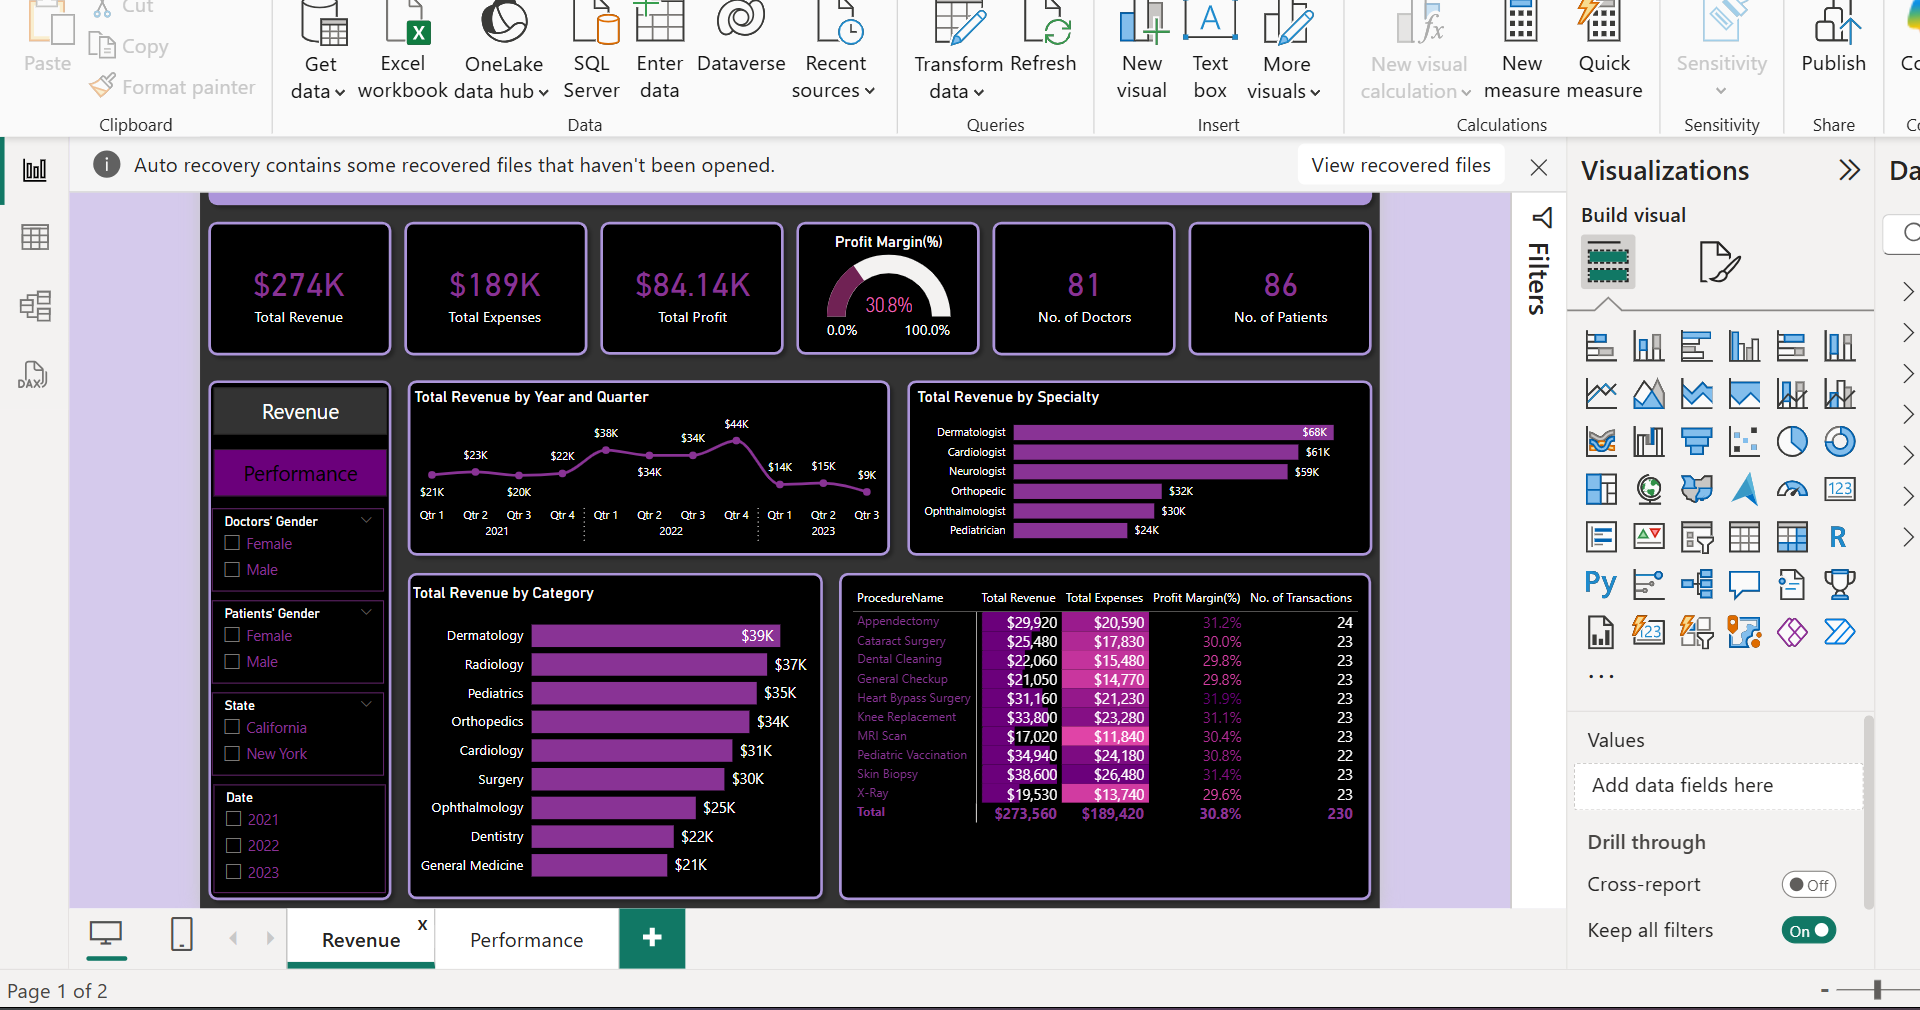

What the dashboard file says about the page in this screenshot:
{"tool":"powerbi","page":{"name":"Revenue","canvas":[1300,850],"ordinal":0},"visuals":[{"type":"shape","box":[0,12.6,1300.1,71.2],"z":0},{"type":"shape","box":[0,84.3,219.8,165.4],"z":1000},{"type":"shape","box":[432.1,84.8,219.8,164.3],"z":2000},{"type":"shape","box":[216.1,84.3,219.8,165.4],"z":3000},{"type":"shape","box":[648.2,84.8,219.8,164.3],"z":4000},{"type":"shape","box":[864.2,84.3,219.8,165.4],"z":5000},{"type":"shape","box":[0,259.6,219.8,590.4],"z":6000},{"type":"shape","box":[219.8,259.6,549.6,211.5],"z":7000},{"type":"shape","box":[220,471.1,475.6,377.8],"z":8000},{"type":"shape","box":[769.4,259.6,530.7,211.5],"z":9000},{"type":"shape","box":[695.6,471.1,604.4,378.9],"z":10000},{"type":"shape","box":[1080.2,84.3,219.8,165.4],"z":11000},{"type":"card","fields":{"Values":["Calculated Measure.Total Revenue"]},"box":[13.3,104.4,191.1,128.9],"z":12000},{"type":"card","fields":{"Values":["Calculated Measure.Total Expenses"]},"box":[230,104.4,191.1,128.9],"z":13000},{"type":"card","fields":{"Values":["Calculated Measure.Total Profit"]},"box":[446.7,104.4,191.1,128.9],"z":14000},{"type":"gauge","fields":{"Y":["Calculated Measure.Profit Margin(%)"]},"box":[662.2,104.4,191.1,128.9],"z":15000},{"type":"card","fields":{"Values":["CountNonNull(Doctors' Dim.DoctorID)"]},"box":[878.9,104.4,191.1,128.9],"z":16000},{"type":"card","fields":{"Values":["CountNonNull(Patients' Dim.PatientID)"]},"box":[1094.4,104.4,191.1,128.9],"z":17000},{"type":"lineChart","fields":{"Y":["Calculated Measure.Total Revenue"],"Category":["Calendar Dim.Date.Variation.Date Hierarchy.Year","Calendar Dim.Date.Variation.Date Hierarchy.Quarter","Calendar Dim.Date.Variation.Date Hierarchy.Month"]},"box":[230.3,275.3,527.6,180],"z":18000},{"type":"clusteredBarChart","fields":{"Y":["Calculated Measure.Total Revenue"],"Category":["Doctors' Dim.Specialty"]},"box":[784.5,275.5,500.9,180],"z":19000},{"type":"clusteredBarChart","fields":{"Y":["Calculated Measure.Total Revenue"],"Category":["Procedure Dim.Category"]},"box":[230,491.1,454.4,341.1],"z":20000},{"type":"pivotTable","fields":{"Rows":["Procedure Dim.ProcedureName"],"Values":["Calculated Measure.Total Revenue","Calculated Measure.Total Expenses","Calculated Measure.Profit Margin(%)","CountNonNull(Hospital Transactions (Fact Table).TransactionID)"]},"box":[714.4,491.1,570,341.1],"z":21000},{"type":"slicer","fields":{"Values":["Doctors' Dim.Doctor_Gender"]},"box":[13.6,409.3,189.5,91.1],"z":22000},{"type":"slicer","fields":{"Values":["Patients' Dim.Patients_Gender"]},"box":[13.6,510.5,189.5,91.1],"z":23000},{"type":"slicer","fields":{"Values":["Location Dim.State"]},"box":[13.6,611.7,189.5,91.1],"z":24000},{"type":"slicer","fields":{"Values":["Calendar Dim.Date.Variation.Date Hierarchy.Year"]},"box":[14.7,712.9,189.5,119.3],"z":25000},{"type":"textbox","box":[340.2,20.9,616.6,52.3],"z":26000},{"type":"pageNavigator","box":[15,276,191.5,120.2],"z":27000}]}

Visuals, with their boxes on the page's 1300x850 design canvas (x1, y1, x2, y2). These are canvas units, not pixel positions in the 1920x1010 screenshot, which may show the page scaled, cropped or inside an application window:
shape: <box>0,13,1300,84</box>
shape: <box>0,84,220,250</box>
shape: <box>432,85,652,249</box>
shape: <box>216,84,436,250</box>
shape: <box>648,85,868,249</box>
shape: <box>864,84,1084,250</box>
shape: <box>0,260,220,850</box>
shape: <box>220,260,769,471</box>
shape: <box>220,471,696,849</box>
shape: <box>769,260,1300,471</box>
shape: <box>696,471,1300,850</box>
shape: <box>1080,84,1300,250</box>
card - Calculated Measure.Total Revenue: <box>13,104,204,233</box>
card - Calculated Measure.Total Expenses: <box>230,104,421,233</box>
card - Calculated Measure.Total Profit: <box>447,104,638,233</box>
gauge - Calculated Measure.Profit Margin(%): <box>662,104,853,233</box>
card - CountNonNull(Doctors' Dim.DoctorID): <box>879,104,1070,233</box>
card - CountNonNull(Patients' Dim.PatientID): <box>1094,104,1286,233</box>
lineChart - Calculated Measure.Total Revenue x Calendar Dim.Date.Variation.Date Hierarchy.Year: <box>230,275,758,455</box>
clusteredBarChart - Calculated Measure.Total Revenue x Doctors' Dim.Specialty: <box>784,276,1285,456</box>
clusteredBarChart - Calculated Measure.Total Revenue x Procedure Dim.Category: <box>230,491,684,832</box>
pivotTable - Procedure Dim.ProcedureName x Calculated Measure.Total Revenue: <box>714,491,1284,832</box>
slicer - Doctors' Dim.Doctor_Gender: <box>14,409,203,500</box>
slicer - Patients' Dim.Patients_Gender: <box>14,510,203,602</box>
slicer - Location Dim.State: <box>14,612,203,703</box>
slicer - Calendar Dim.Date.Variation.Date Hierarchy.Year: <box>15,713,204,832</box>
textbox: <box>340,21,957,73</box>
pageNavigator: <box>15,276,206,396</box>
